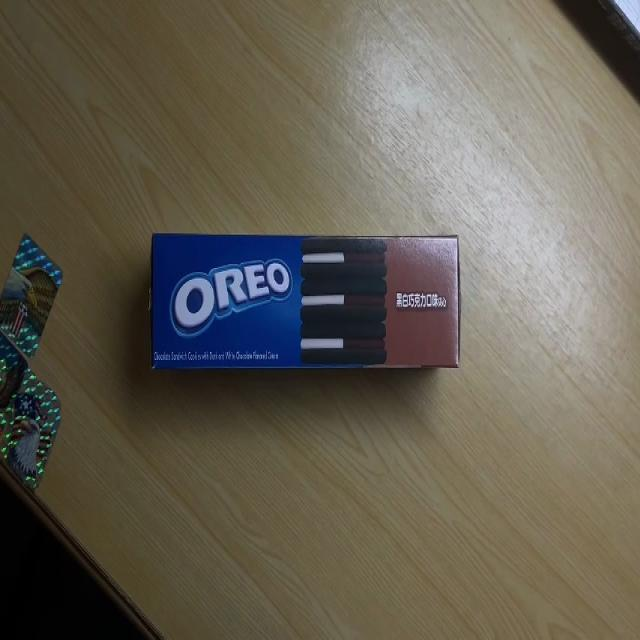Oreo: (150, 230, 461, 374)
